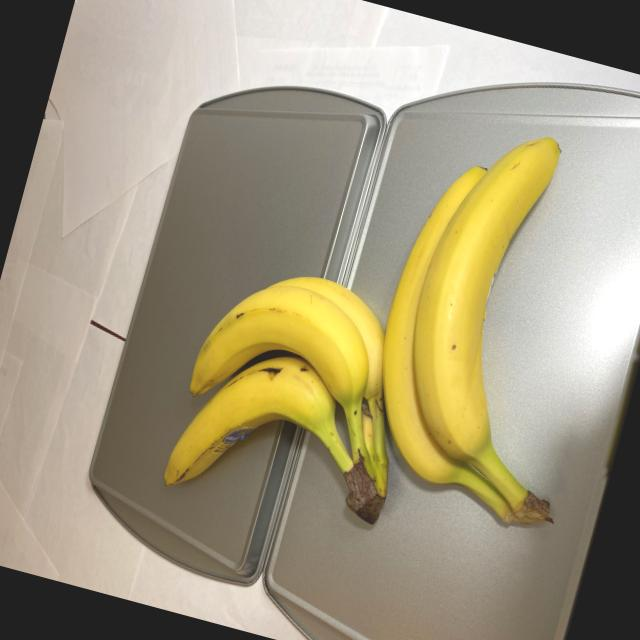banana: (156, 61, 634, 588)
